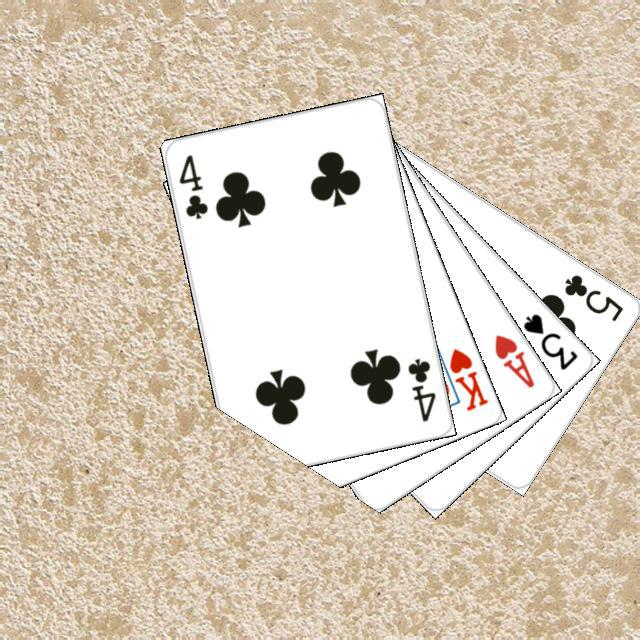3s: (518, 308, 580, 372)
4c: (174, 149, 210, 221), (402, 353, 438, 424)
5c: (559, 269, 625, 323)
Ah: (489, 329, 537, 390)
Kh: (431, 343, 490, 413)
